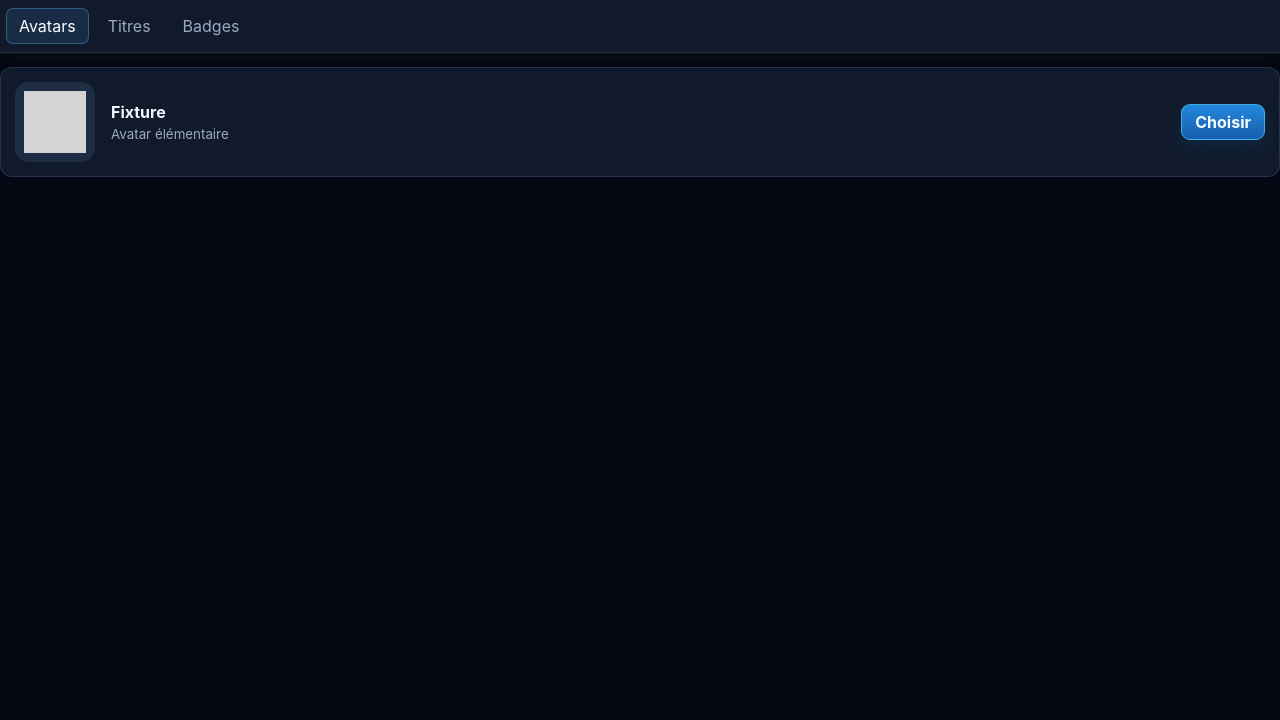
Test: keeps an equipment failure in the open dialogue without confirming a preview
Click the button with class "appearance-choose". click: (1223,122)
box: 1181,104 -> 1265,140
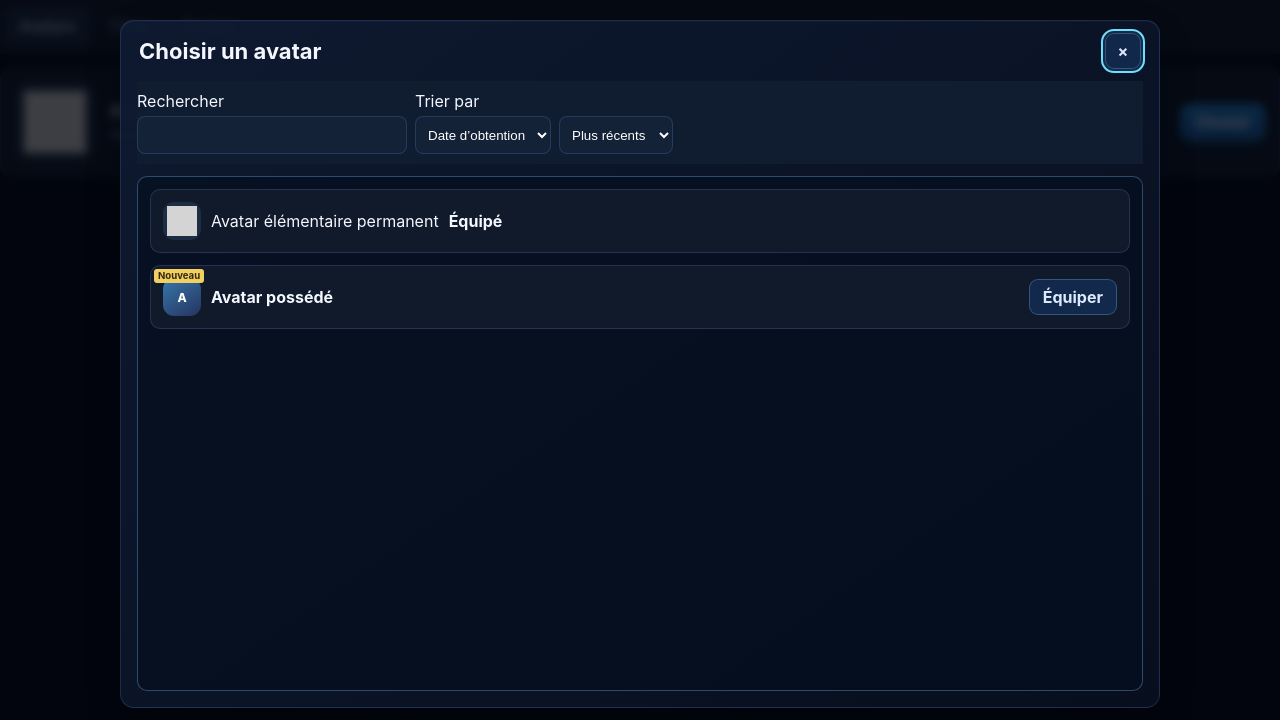
Click the button "Équiper". click: (1073,297)
box: 1029,279 -> 1117,315
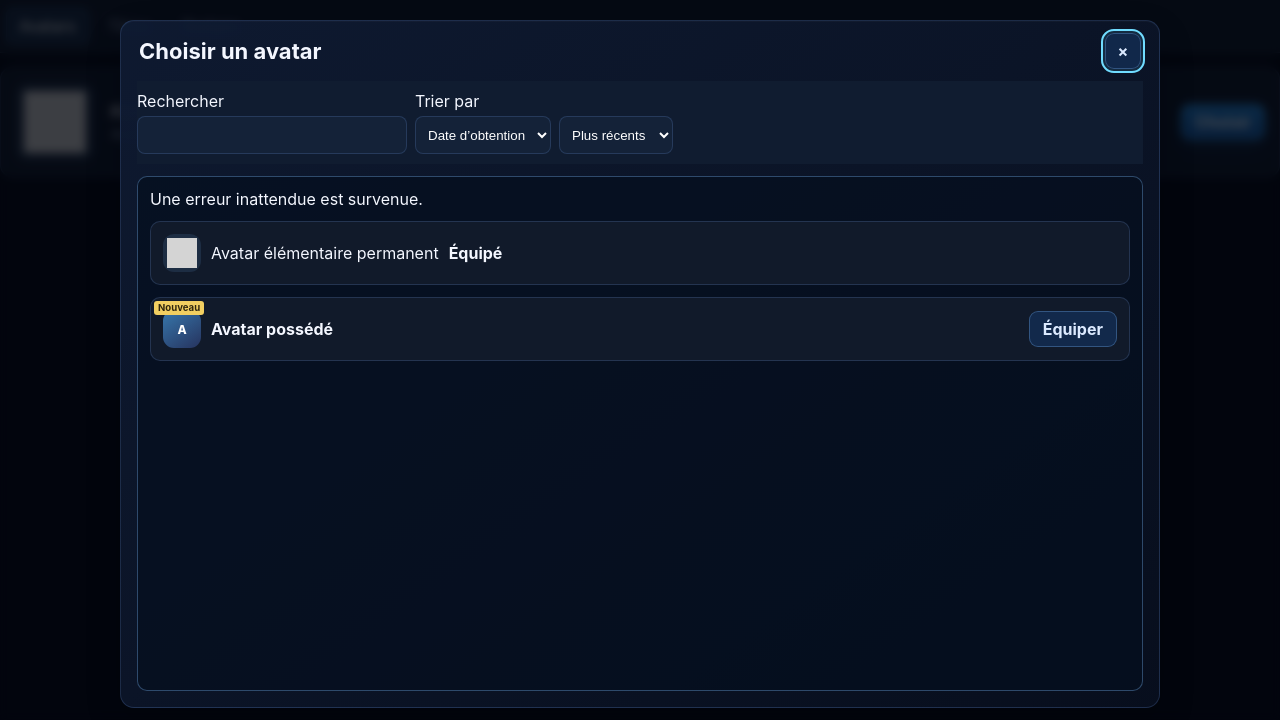
Expected: the element with class "appearance-preview" shows "Avatar élémentaire", 111,126 -> 229,142
Expected: the message "Une erreur inattendue est survenue." is shown, 150,189 -> 423,209
